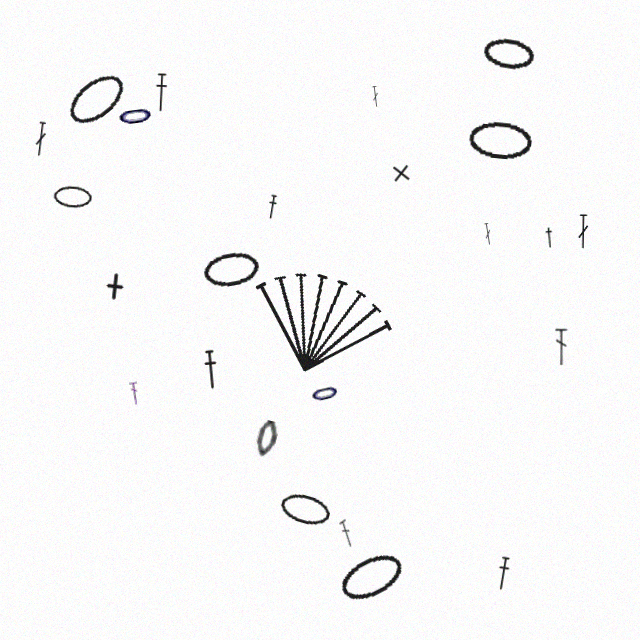chain: (334, 545, 410, 609), (61, 65, 132, 132), (467, 119, 533, 161), (201, 248, 262, 290), (277, 489, 333, 530), (481, 35, 537, 73), (115, 100, 156, 131), (253, 419, 280, 459), (308, 379, 342, 407), (53, 185, 92, 209)
double: (33, 121, 48, 157), (555, 328, 568, 366), (339, 519, 354, 547), (577, 214, 589, 249), (129, 381, 140, 405), (483, 223, 493, 245), (371, 86, 380, 107)
fan: (232, 244, 408, 395)
half_double: (202, 349, 220, 390), (494, 556, 512, 591), (153, 73, 169, 112), (266, 194, 278, 220), (543, 227, 556, 248)
single: (100, 271, 130, 302), (390, 162, 412, 184)
